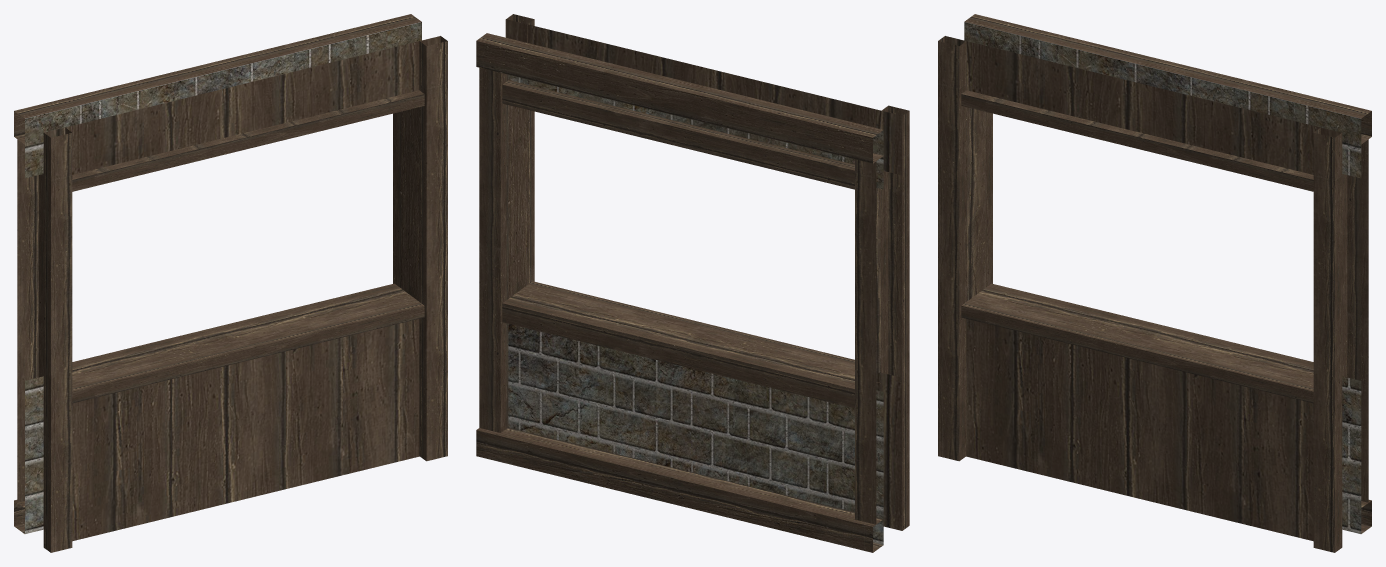
The model's file is ARC1010240.fbx.
The picture shows the model from 3 angles, left to right: view 1: azimuth 30°, elevation 25°; view 2: azimuth 150°, elevation 25°; view 3: azimuth 330°, elevation 25°; orthographic projection.
Parts seen in each view (by area): view 1: smARC1010240; view 2: smARC1010240; view 3: smARC1010240.
Boxes of the visible parts, x1,y1,x2,y2 form: smARC1010240: [14, 14, 447, 552]; smARC1010240: [476, 14, 909, 552]; smARC1010240: [938, 14, 1371, 552].
Size of the model in its own units: 268 by 268 by 43.17.
1 material, 1 textured.
